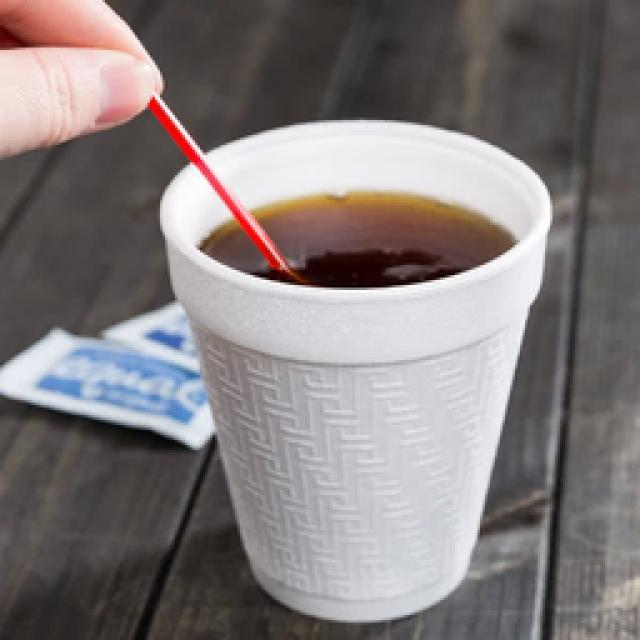plastic: (150, 95, 302, 280)
styrofoam: (160, 120, 550, 620)
